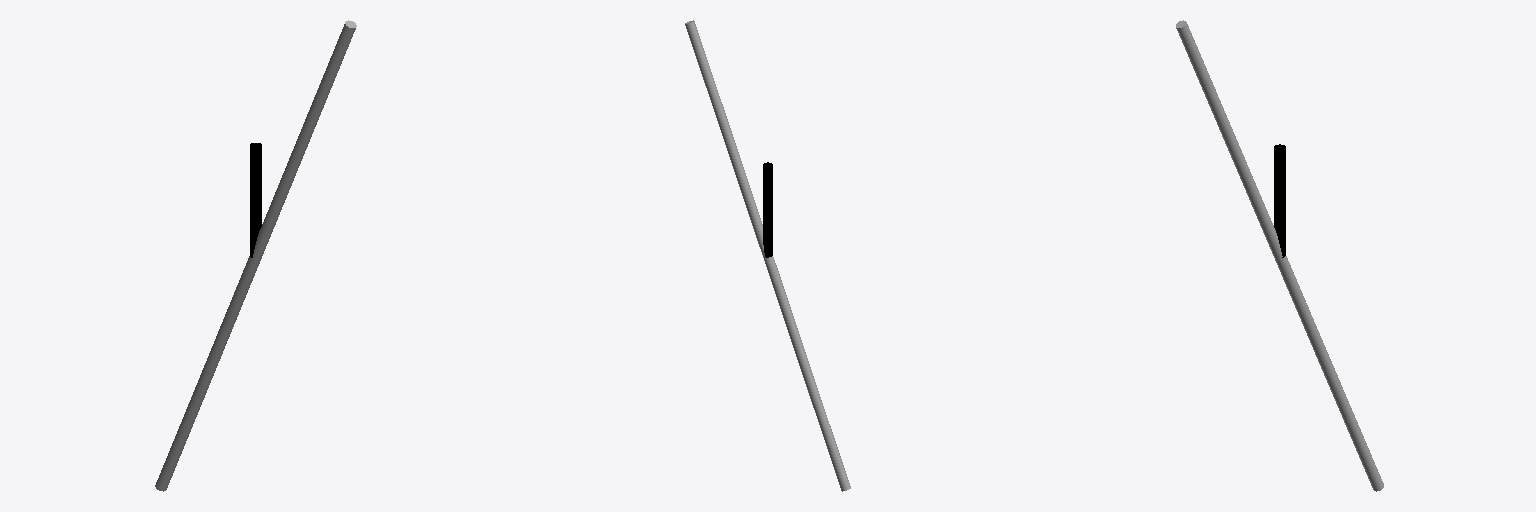
robot.urdf — LISM_Arm:
<?xml version="1.0" ?>
<robot name="LISM_Arm">

    <!-- Basic colors -->
    <material name="black">
        <color rgba="0.0 0.0 0.0 1.0"/>
    </material>
    <material name="greyblack">
        <color rgba="0.1765 0.1765 0.1765 1"/>
    </material>
    <material name="blue">
        <color rgba="0.0 0.0 0.8 1.0"/>
    </material>
    <material name="green">
        <color rgba="0.0 0.8 0.0 1.0"/>
    </material>
    <material name="grey">
        <color rgba="0.3 0.3 0.3 1"/>
    </material>
    <material name="silver">
        <color rgba="0.8 0.8 0.8 1"/>
    </material>
    <material name="red">
        <color rgba="0.8 0.0 0.0 1.0"/>
    </material>
    <material name="white">
        <color rgba="1.0 1.0 1.0 1.0"/>
    </material>

    <material name="anymal_material">
        <color rgba="0.7 0.7 0.7 1.0"/>
    </material>


    <!-- Material for the visual primitives -->
    <material name="anymal_material">
        <color rgba="0.7 0.7 0.7 1.0"/>
    </material>

<!---=============================the base of fixing arm======================-->
    <!--base of fixing arm-->
    <link name="world"/>

    <joint name="worldTolink1" type="fixed">
        <parent link="world"/>
        <child link="base_plate"/>
        <origin xyz="0 0 0"/>
    </joint>

    <link name="base_plate">
        <visual>
            <origin rpy="0.335 0.18 0.0" xyz="0 0 0"/>
            <geometry>
                <cylinder length="5" radius="0.05"/>
            </geometry>
            <material name="anymal_material"/>
        </visual>
        
    </link>

    <joint name="base_fix" type="fixed">
        <axis xyz="1 0 0"/>
        <origin rpy="0 0 0" xyz="0 0 0"/>
        <parent link="base_plate"/>
        <child link="fix_pillar"/>
    </joint>

    <link name="fix_pillar">
        <visual>
            <origin rpy="0.0 0.0 0.0" xyz="0 0 0.5"/>
            <geometry>
                <cylinder length="1" radius="0.05"/>
            </geometry>
            <material name="black"/>
        </visual>
    </link>

</robot>

--- What the picture shows (computed from the rendered views, not written in the file) ---
3 views of the same robot in one strip: view 1: azimuth 30°, elevation 25°; view 2: azimuth 210°, elevation 25°; view 3: azimuth 270°, elevation 25° (orthographic).
Model LISM_Arm with 3 links and 2 joints (2 fixed), rooted at world, posed all joints at 0.
Visible links, largest first — view 1: base_plate, fix_pillar; view 2: base_plate, fix_pillar; view 3: base_plate, fix_pillar.
Link boxes in pixels (x1,y1,x2,y2): base_plate: [155, 20, 356, 491]; fix_pillar: [250, 143, 261, 257]; base_plate: [685, 20, 850, 491]; fix_pillar: [763, 162, 772, 257]; base_plate: [1176, 20, 1383, 491]; fix_pillar: [1274, 144, 1285, 257].
Size in the robot's own frame: 0.9438 by 1.74 by 4.68 metres.
Geometry: primitives only (box / cylinder / sphere), no mesh files.
